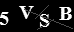5: (1, 11, 9, 26)
B: (57, 6, 72, 21)
S: (39, 13, 50, 28)
V: (17, 5, 35, 20)
